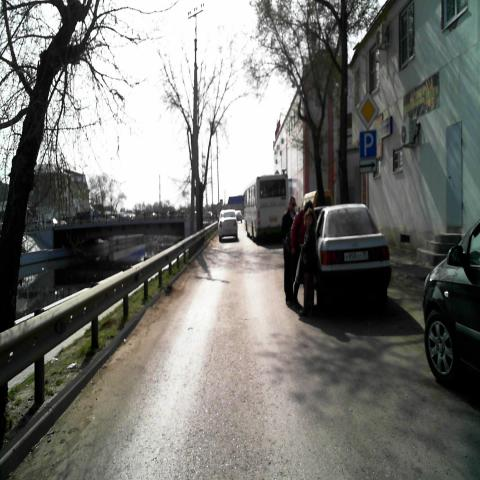8_3_1: (360, 158, 378, 174)
